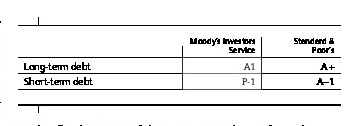table: (0, 0, 364, 126)
